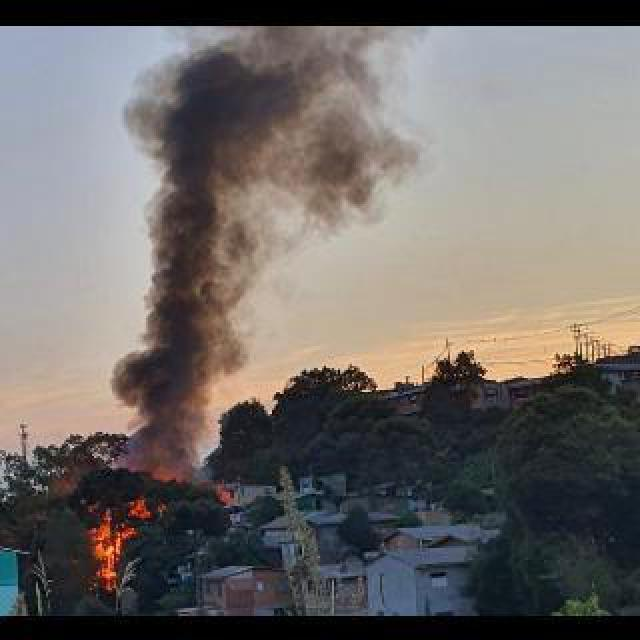smoke: (106, 64, 244, 482), (238, 23, 437, 251)
zfire: (86, 500, 150, 562)
